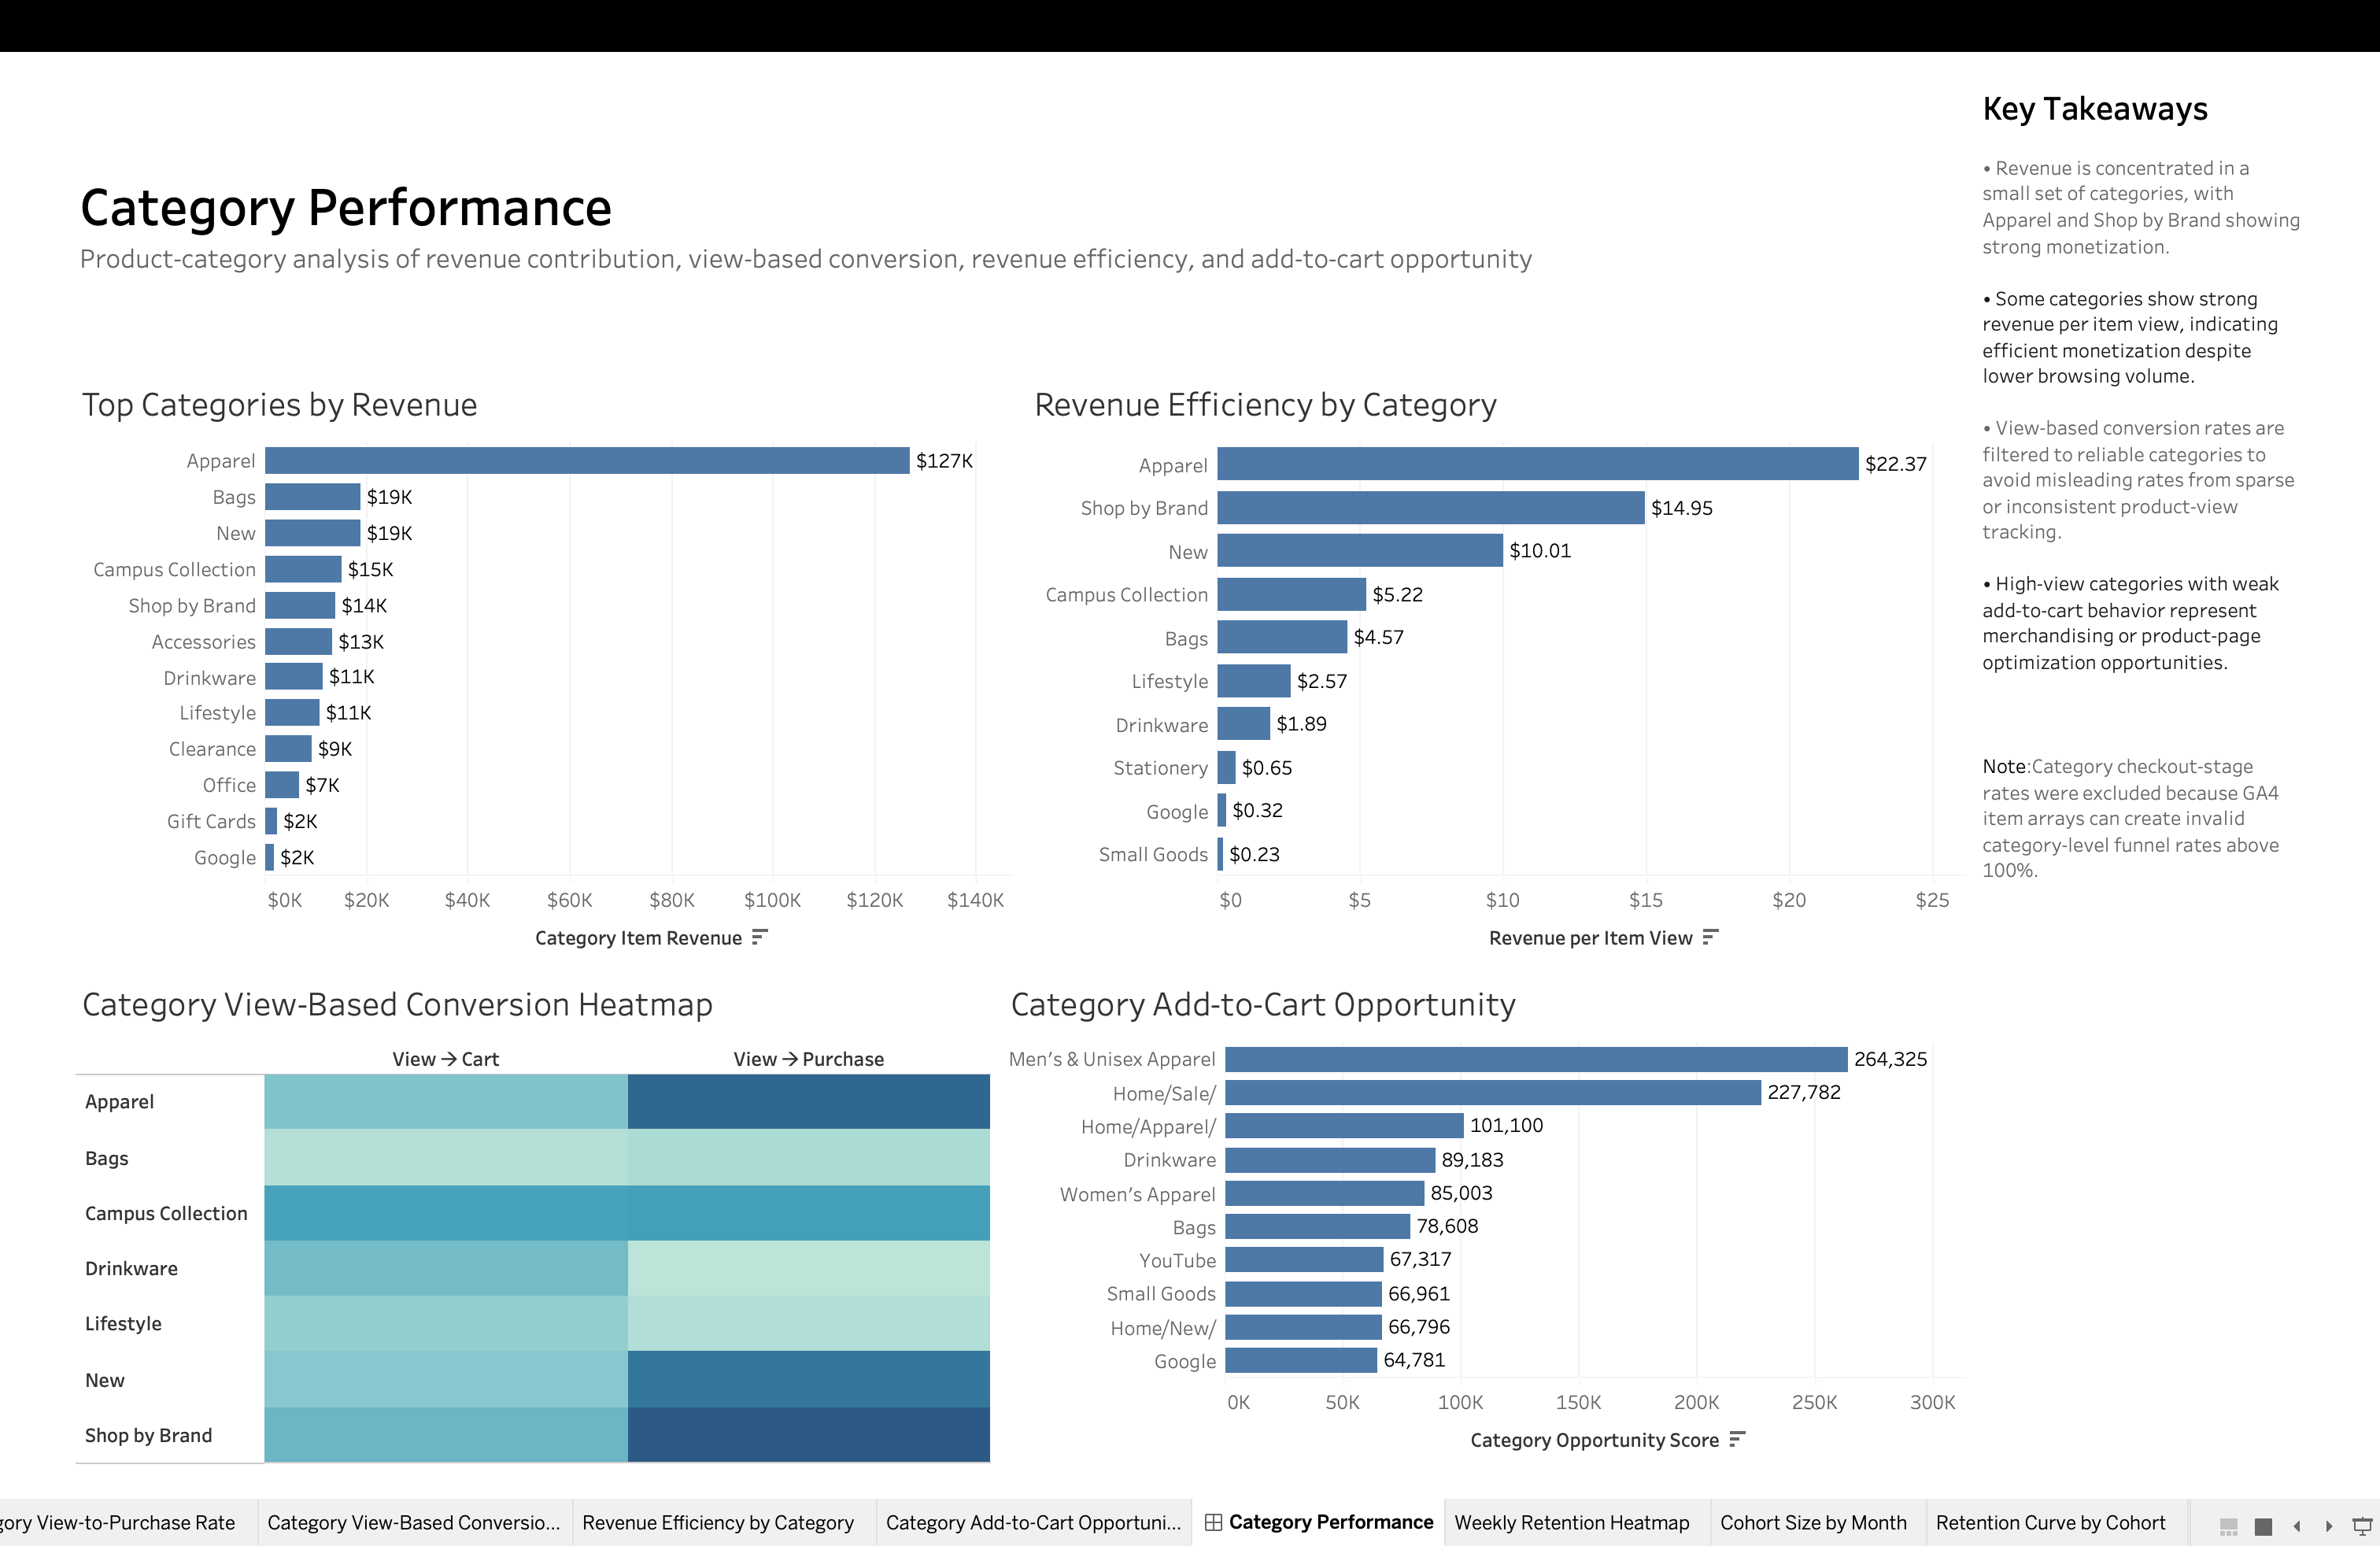

The dashboard page shown, as its layout file describes it:
{"tool":"tableau","page":{"name":"Category Performance","canvas":[1440,900],"ordinal":0},"visuals":[{"type":"text","box":[8,8,1209,184]},{"type":"text","box":[1217,8,215,884]},{"type":"worksheet","title":"Top Categories by Revenue","mark":"Automatic","rows":["Calculation_3920721007362074"],"cols":["category_item_revenue"],"box":[8,192,604.5,381]},{"type":"worksheet","title":"Revenue Efficiency by Category","mark":"Bar","rows":["Calculation_3920721007362074"],"cols":["Calculation_3920721007919135"],"box":[612.5,192,604.5,381]},{"type":"worksheet","title":"Category View-Based Conversion Heatmap","mark":"Square","rows":["Calculation_3920721007362074"],"box":[8,573,590,319]},{"type":"worksheet","title":"Category Add-to-Cart Opportunity","mark":"Bar","rows":["Calculation_3920721007362074"],"cols":["Calculation_3920652310466594"],"box":[598,573,619,319]}]}

Visuals, with their boxes on the page's 1440x900 design canvas (x1, y1, x2, y2). These are canvas units, not pixel positions in the 2380x1546 screenshot, which may show the page scaled, cropped or inside an application window:
text: crop(8, 8, 1217, 192)
text: crop(1217, 8, 1432, 892)
"Top Categories by Revenue" worksheet: crop(8, 192, 612, 573)
"Revenue Efficiency by Category" worksheet (Bar marks): crop(612, 192, 1217, 573)
"Category View-Based Conversion Heatmap" worksheet (Square marks): crop(8, 573, 598, 892)
"Category Add-to-Cart Opportunity" worksheet (Bar marks): crop(598, 573, 1217, 892)
